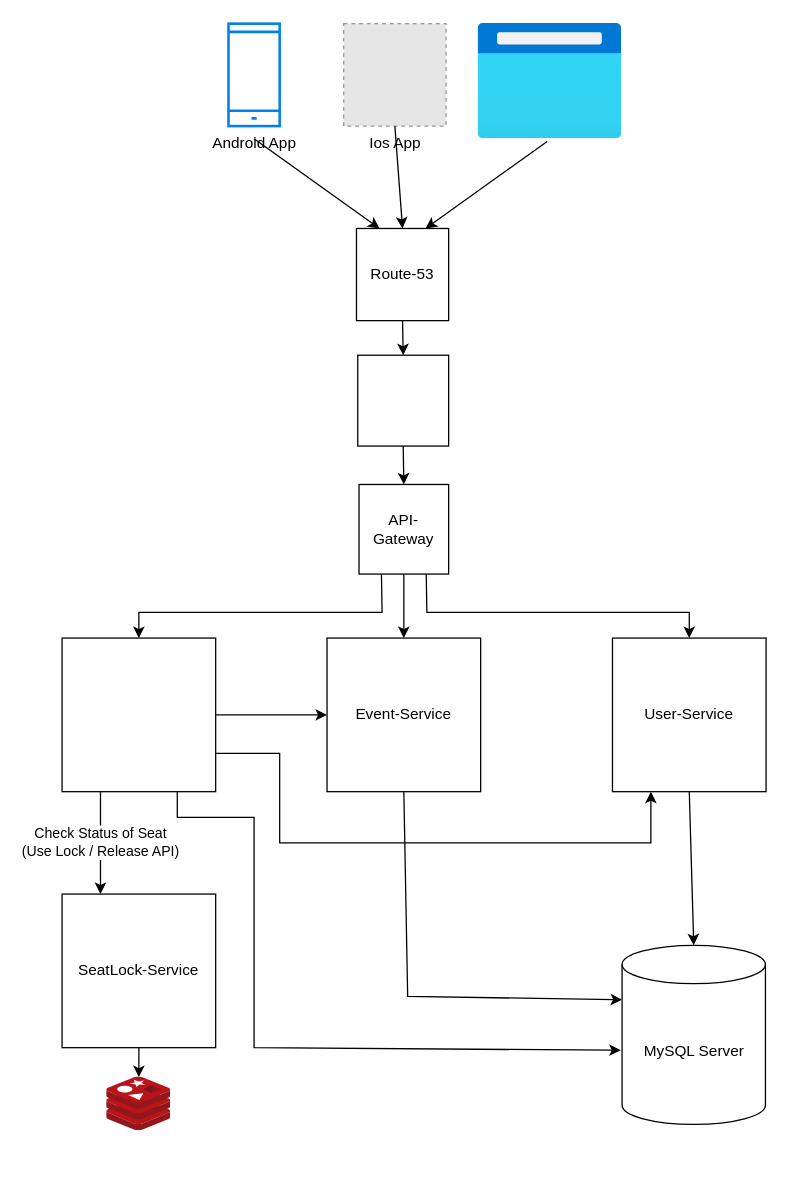
Some shapes in this 788 by 1179 pixel diagram are drawn without their labels. Grey dashed boxes stand in for pictures. The shapes that lost their labels are listed below. From the top down, each one's box as (x1, y1, x2, y2) in pixels, then its label:
(477, 23, 621, 138): Web App
(356, 354, 449, 446): CDN
(61, 637, 216, 792): Booking-Service
(106, 1076, 170, 1130): Redis Cache
